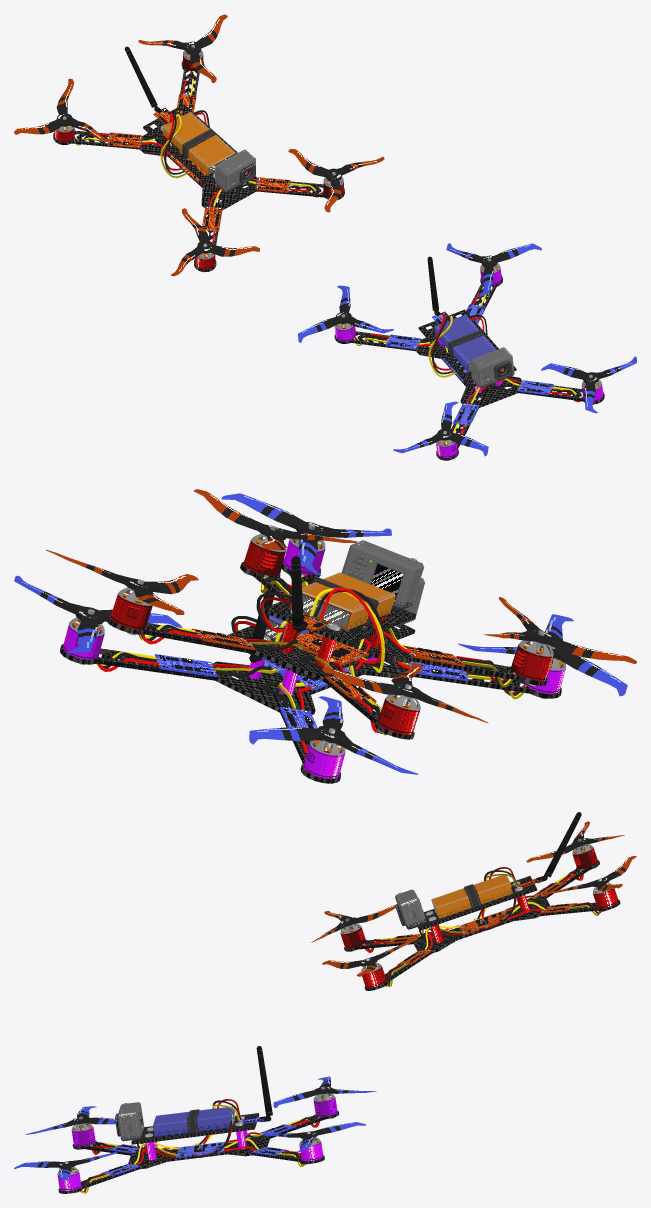
File: racing_drones.glb
The picture shows the model from 3 angles, top to bottom: view 1: azimuth 30°, elevation 25°; view 2: azimuth 150°, elevation 25°; view 3: azimuth 270°, elevation 25°; orthographic projection. The views are drawn at different scales.
Parts seen in each view (by area): view 1: Mirrored.001, Mirrored, Asymetrical.001, Asymetrical; view 2: Mirrored.001, Mirrored, Asymetrical.001, Asymetrical; view 3: Mirrored.001, Mirrored, Asymetrical.001, Asymetrical.
Boxes of the visible parts, x1,y1,x2,y2 form: Mirrored.001: [14, 14, 384, 276]; Mirrored: [298, 243, 636, 460]; Asymetrical.001: [73, 46, 323, 244]; Asymetrical: [353, 256, 580, 434]; Mirrored.001: [46, 489, 636, 739]; Mirrored: [14, 493, 627, 783]; Asymetrical.001: [139, 540, 515, 735]; Asymetrical: [96, 557, 526, 753]; Mirrored.001: [311, 821, 636, 990]; Mirrored: [14, 1076, 376, 1193]; Asymetrical.001: [362, 812, 601, 986]; Asymetrical: [80, 1046, 320, 1193].
Size of the model in its own units: 4.21 by 2.71 by 5.32.
4 materials, 4 textured.
